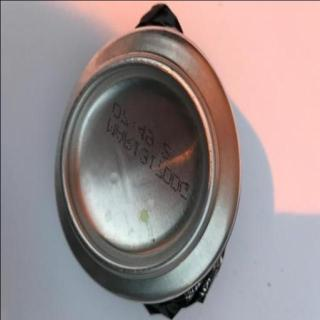Anorganik: (48, 2, 244, 320)
